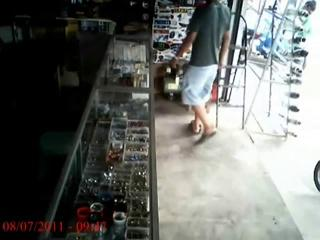Normal: (169, 0, 231, 142)
